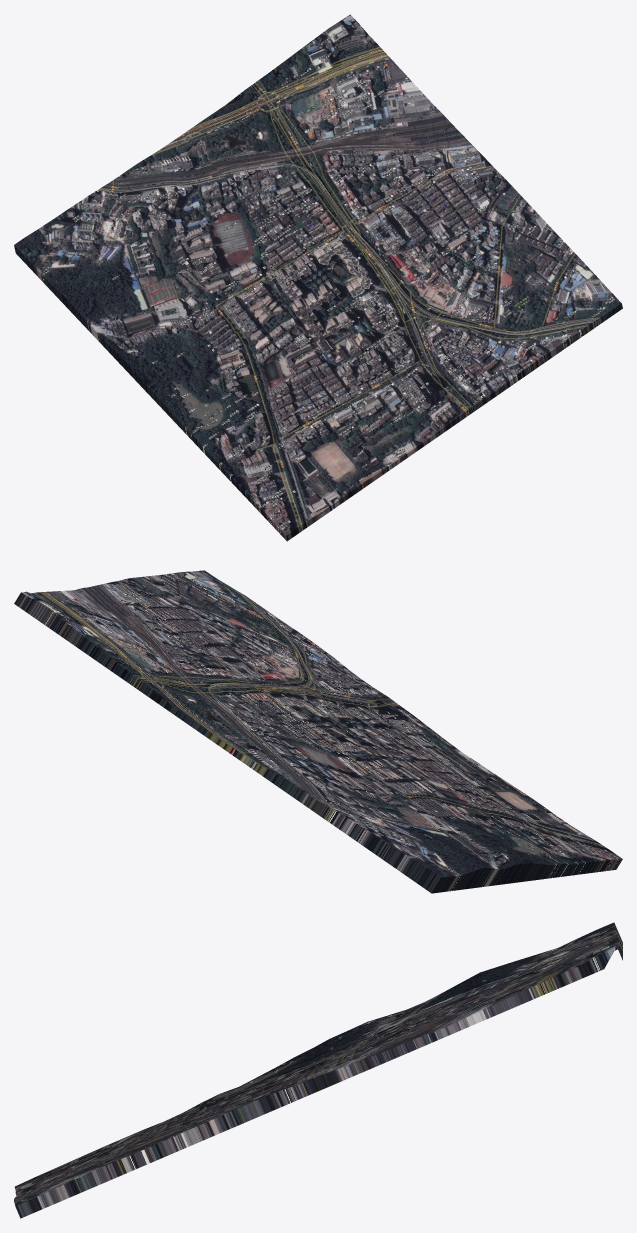
3 views of the same model, one above another, from view 1: azimuth 30°, elevation 25°; view 2: azimuth 150°, elevation 25°; view 3: azimuth 270°, elevation 25° (orthographic). The views are drawn at different scales.
Parts seen in each view (by area): view 1: 1_2_5; view 2: 1_2_5; view 3: 1_2_5.
Boxes of the visible parts, box(x1,y1,x2,y2) form: 1_2_5: box(14, 14, 622, 541); 1_2_5: box(14, 570, 622, 893); 1_2_5: box(14, 922, 622, 1218).
Bounding box in the file's own units: 1238 × 908 × 1131.
1 material, 1 textured.
